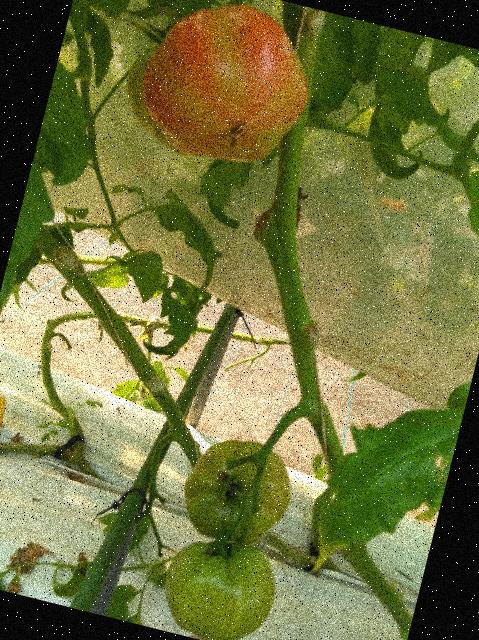b_green: (172, 427, 301, 554), (152, 525, 284, 640)
b_half_ripened: (125, 0, 324, 179)
